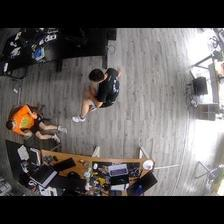fall: (71, 66, 119, 122)
normal: (5, 104, 67, 144)
